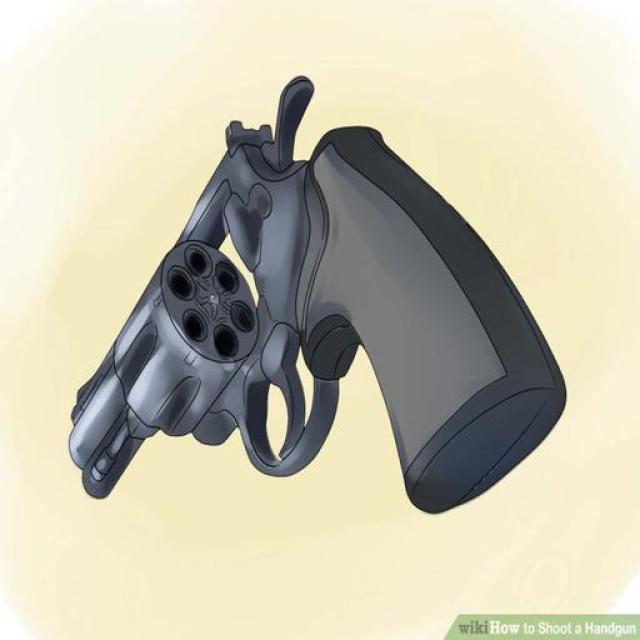pistol: (67, 74, 551, 518)
